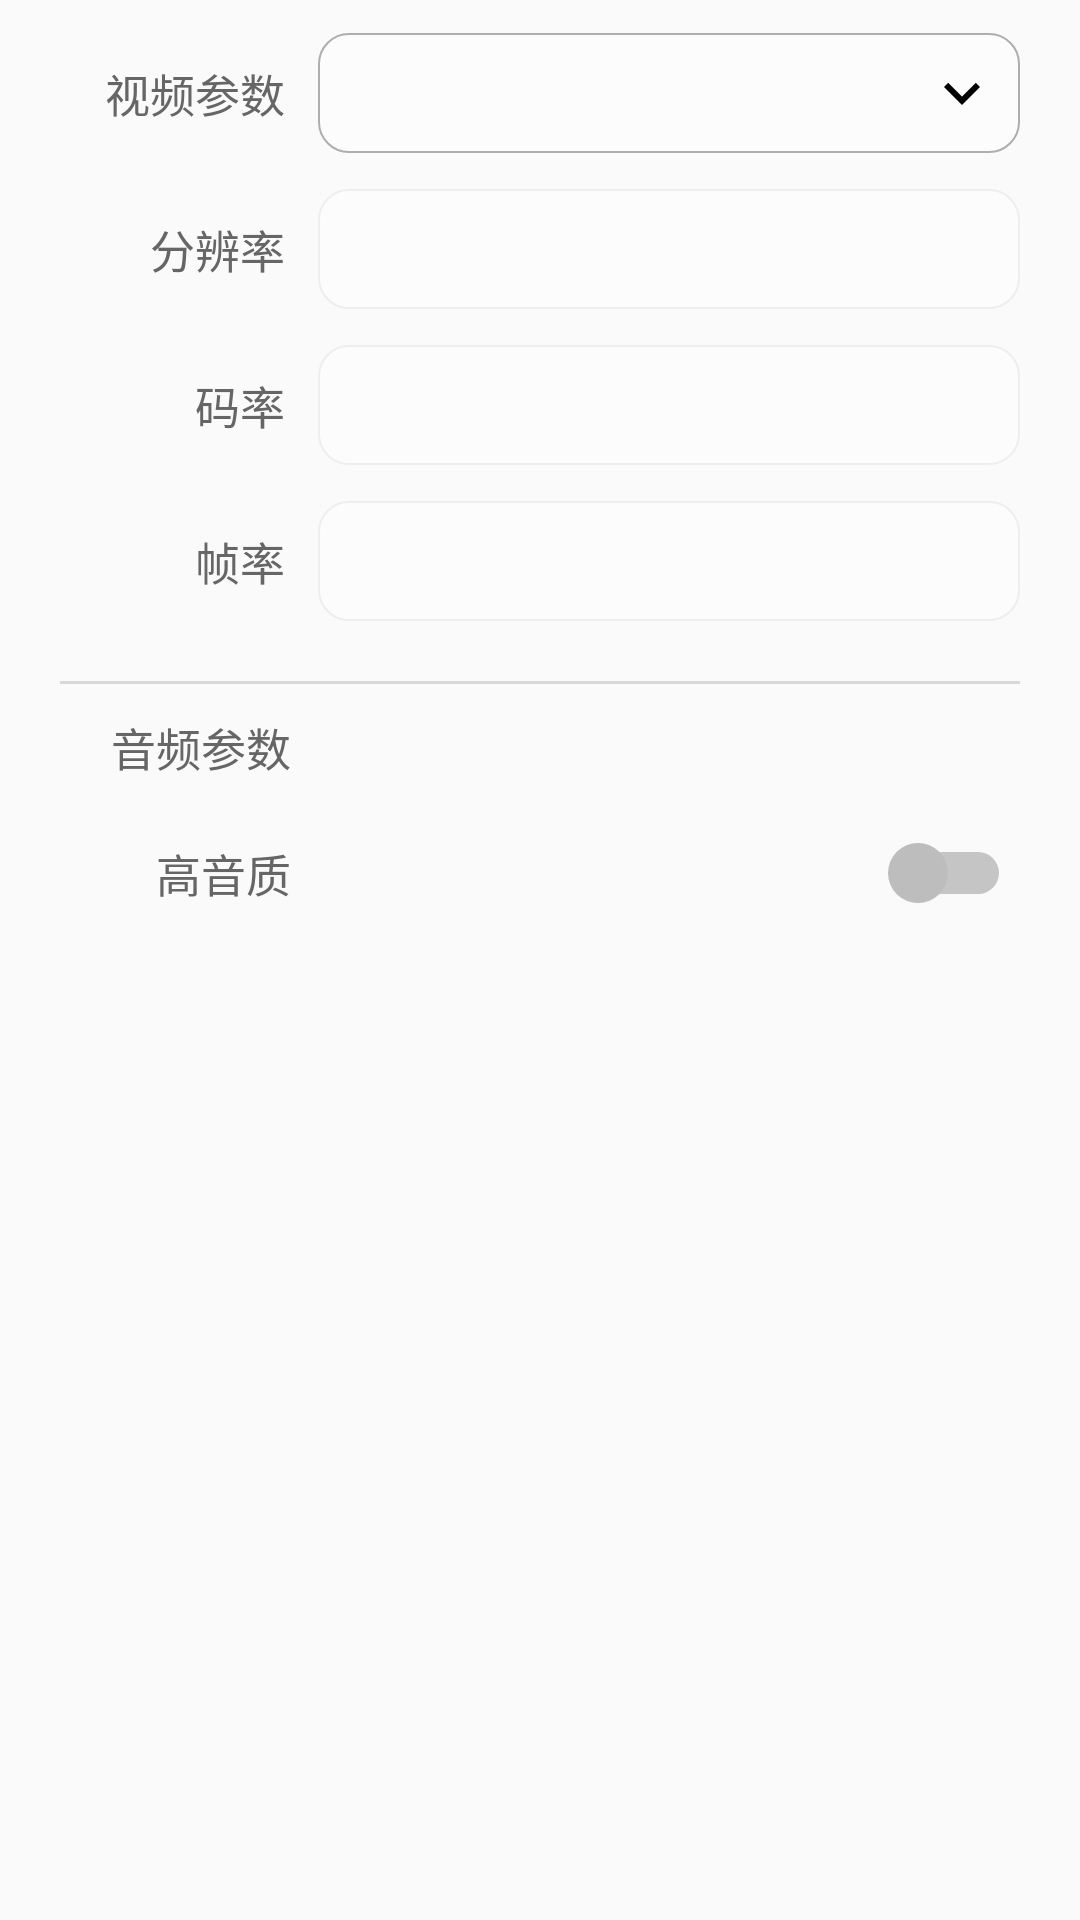

Screen size 1080w x 1920h. Icon name, then its center in pixels as [x,y]:
arrow down: [962,94]
